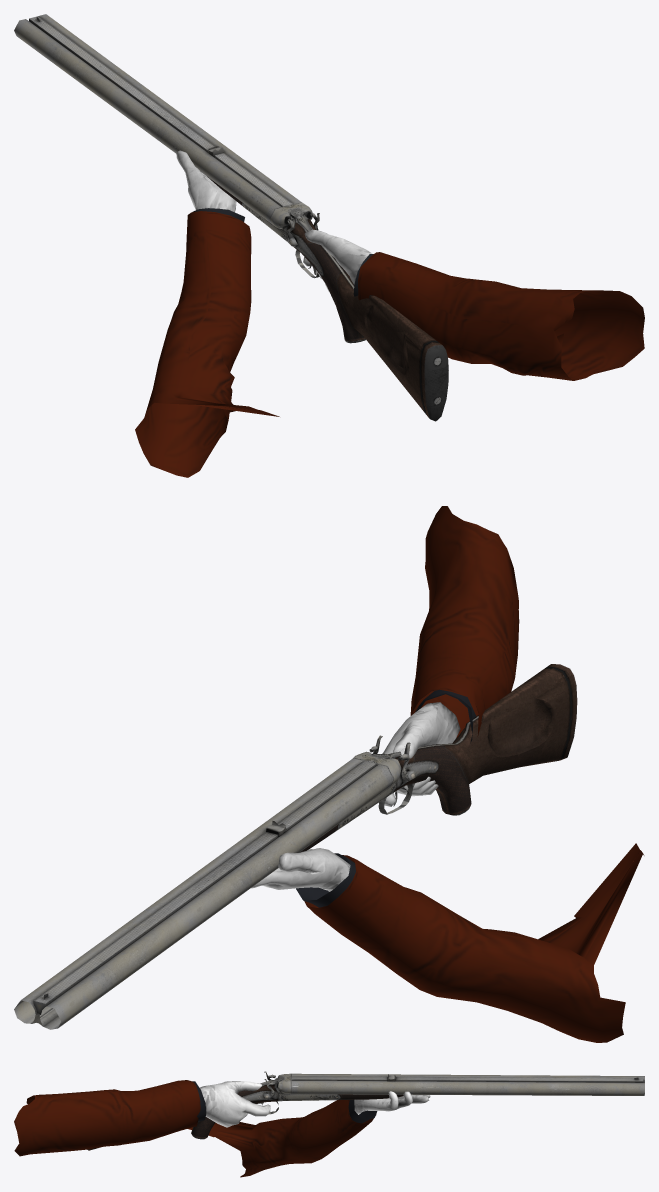
The model's file is frame_2.obj.
3 views of the same model, one above another, from view 1: azimuth 30°, elevation 25°; view 2: azimuth 150°, elevation 25°; view 3: azimuth 270°, elevation 25° (orthographic). The views are drawn at different scales.
Parts seen in each view (by area): view 1: PlayerModelMerged.001_PlayerModelMerged, double_-_barreled_shotgun_L_double_-_barreled_shotgun_LP_к.001; view 2: PlayerModelMerged.001_PlayerModelMerged, double_-_barreled_shotgun_L_double_-_barreled_shotgun_LP_к.001; view 3: PlayerModelMerged.001_PlayerModelMerged, double_-_barreled_shotgun_L_double_-_barreled_shotgun_LP_к.001.
Part boxes in pixels (<box>): PlayerModelMerged.001_PlayerModelMerged: <box>135,150,644,477</box>; double_-_barreled_shotgun_L_double_-_barreled_shotgun_LP_к.001: <box>14,14,448,421</box>; PlayerModelMerged.001_PlayerModelMerged: <box>251,506,644,1042</box>; double_-_barreled_shotgun_L_double_-_barreled_shotgun_LP_к.001: <box>14,664,577,1029</box>; PlayerModelMerged.001_PlayerModelMerged: <box>14,1080,430,1177</box>; double_-_barreled_shotgun_L_double_-_barreled_shotgun_LP_к.001: <box>87,1071,644,1150</box>.
Size of the model in its own units: 0.8331 by 0.5652 by 2.
